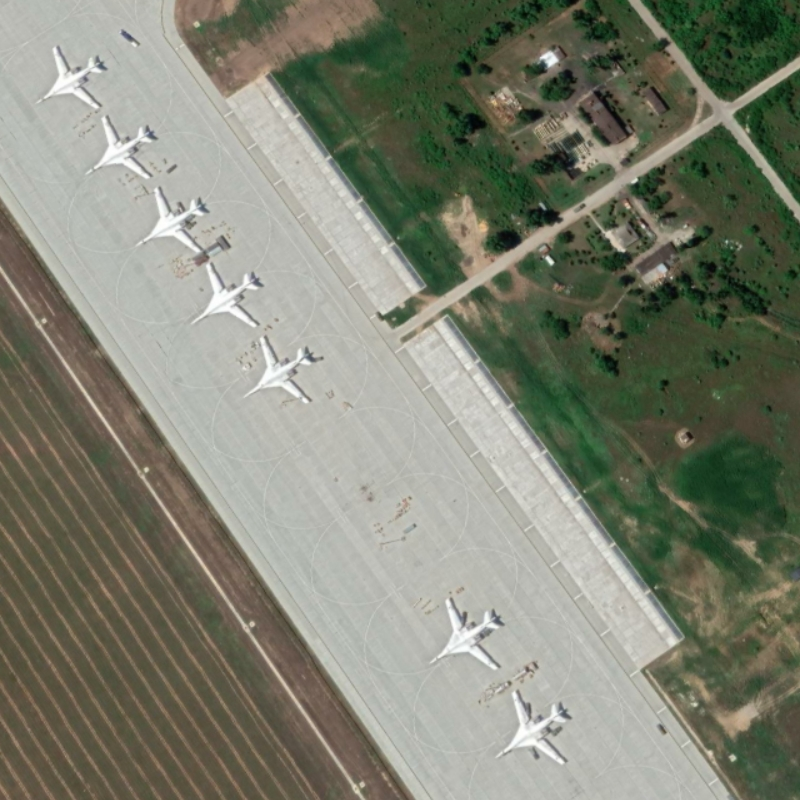A6: (489, 681, 575, 770), (238, 323, 322, 409), (425, 594, 504, 675), (129, 180, 215, 251), (77, 108, 159, 181), (183, 258, 262, 333), (31, 42, 109, 111)
